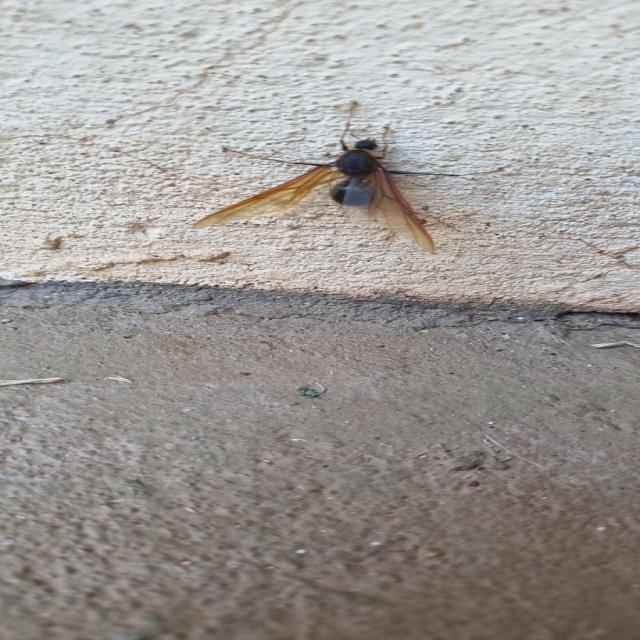Alive-Male-Alate: (191, 100, 506, 256)
